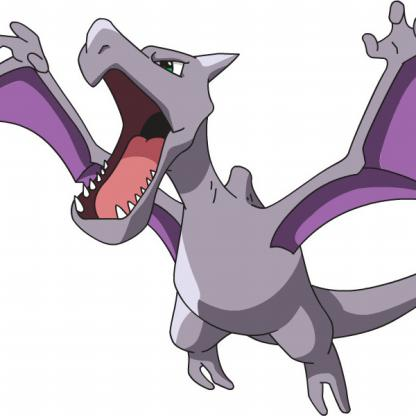Aerodactyl: (2, 17, 416, 416)
